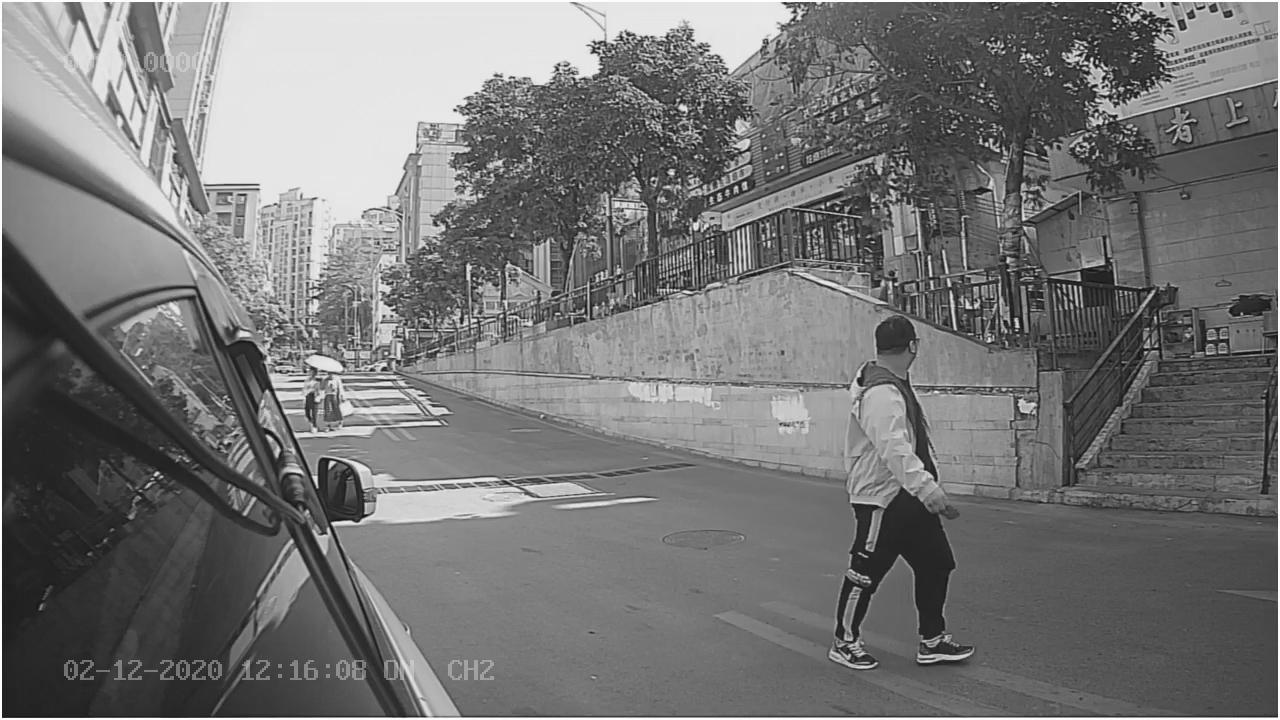person: (827, 310, 983, 673)
